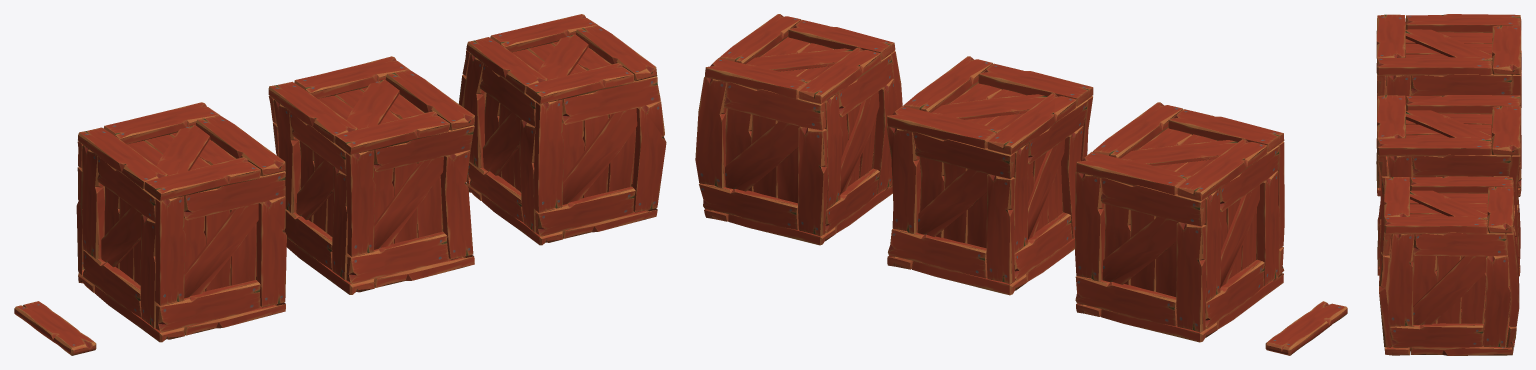
The model's file is Crates.fbx.
3 renders of one model, left to right at view 1: azimuth 30°, elevation 25°; view 2: azimuth 150°, elevation 25°; view 3: azimuth 270°, elevation 25°, orthographic. The views are drawn at different scales.
Parts seen in each view (by area): view 1: Cube.004, Cube.001, Cube.002, Cube; view 2: Cube.004, Cube.001, Cube.002, Cube; view 3: Cube.002, Cube.004, Cube.001.
Boxes of the visible parts, x1=… form: Cube.004: x1=76, y1=102, x2=286, y2=342; Cube.001: x1=268, y1=56, x2=474, y2=294; Cube.002: x1=458, y1=14, x2=666, y2=245; Cube: x1=14, y1=301, x2=96, y2=355; Cube.004: x1=1075, y1=102, x2=1284, y2=342; Cube.001: x1=886, y1=56, x2=1093, y2=295; Cube.002: x1=695, y1=14, x2=902, y2=245; Cube: x1=1265, y1=301, x2=1347, y2=355; Cube.002: x1=1379, y1=176, x2=1519, y2=355; Cube.004: x1=1376, y1=14, x2=1521, y2=196; Cube.001: x1=1377, y1=95, x2=1520, y2=276.
Bounding box in the file's own units: 4609 × 1167 × 1146.
Materials: 1 (1 with a texture image).
